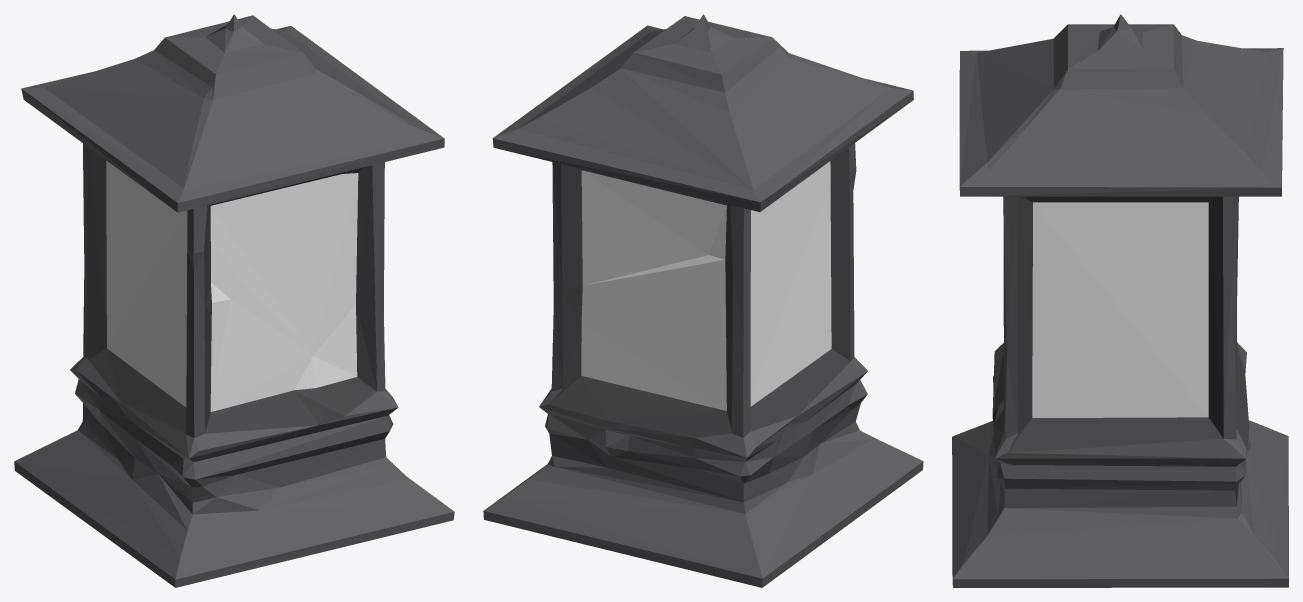
The model's file is WF_LP_HT_Props_HandLamp.002.fbx.
3 renders of one model, left to right at view 1: azimuth 30°, elevation 25°; view 2: azimuth 150°, elevation 25°; view 3: azimuth 270°, elevation 25°, orthographic. The views are drawn at different scales.
Parts seen in each view (by area): view 1: WF_LP_HT_Props_HandLamp.002; view 2: WF_LP_HT_Props_HandLamp.002; view 3: WF_LP_HT_Props_HandLamp.002.
Part boxes in pixels (<box>): WF_LP_HT_Props_HandLamp.002: <box>14,14,454,587</box>; WF_LP_HT_Props_HandLamp.002: <box>483,14,923,587</box>; WF_LP_HT_Props_HandLamp.002: <box>952,14,1288,587</box>.
Size of the model in its own units: 0.2557 by 0.4211 by 0.2555.
